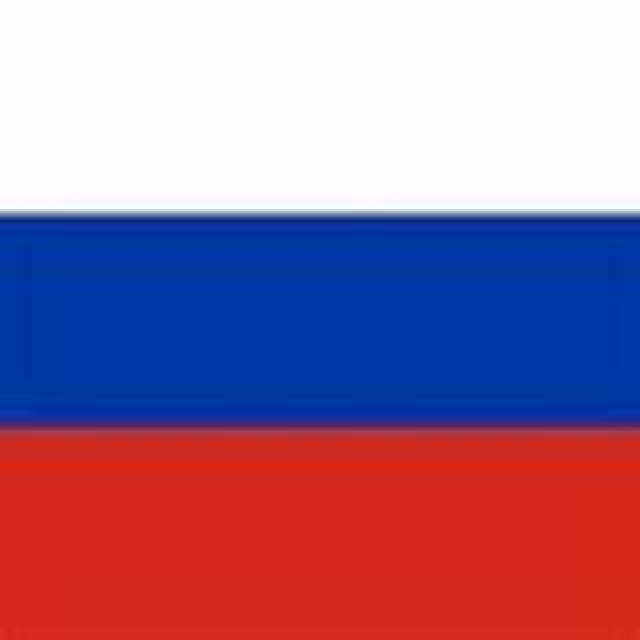russia: (11, 16, 627, 636)
